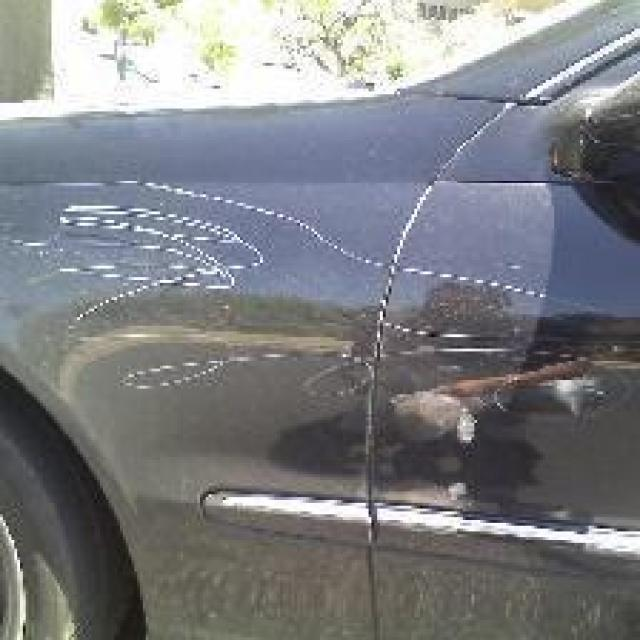damaged: (11, 177, 608, 449)
